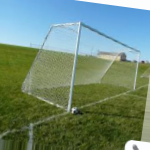goals: (20, 19, 142, 115)
